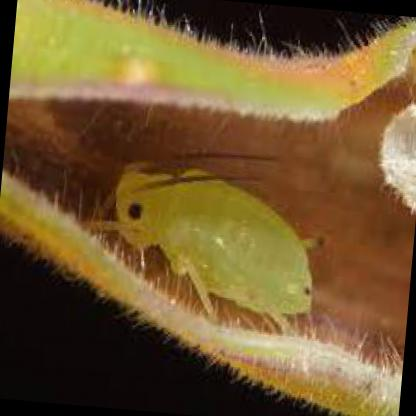schizaphis graminum: (88, 170, 313, 317)
